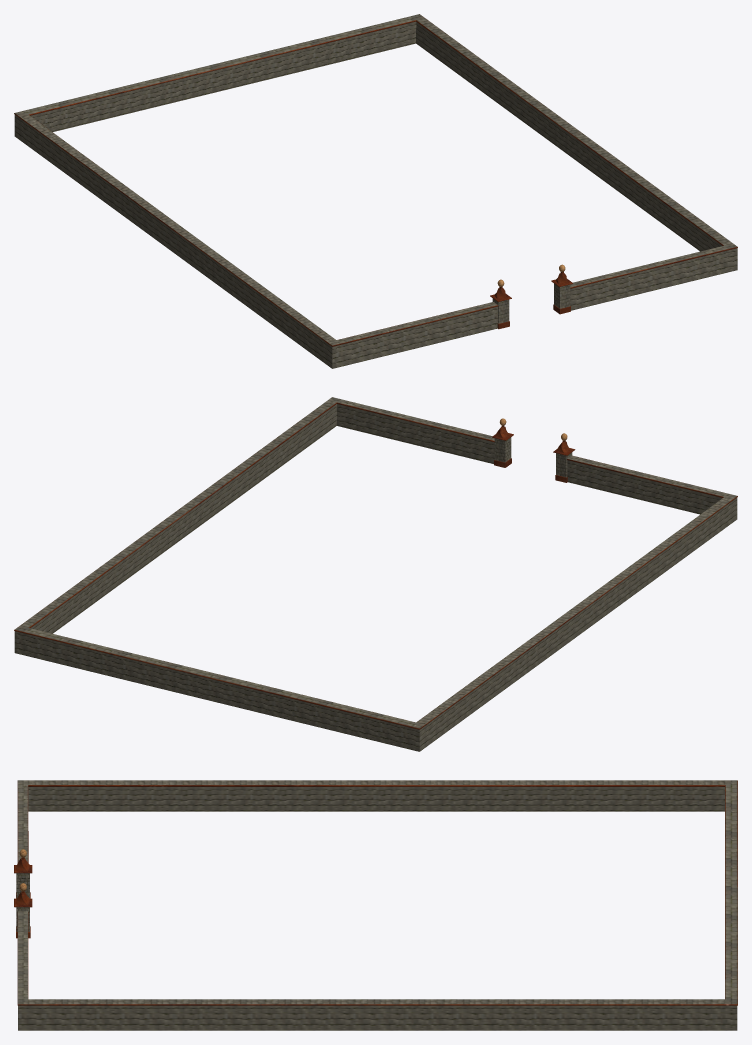
Rendered from fence.fbx.
3 views of the same model, one above another, from view 1: azimuth 30°, elevation 25°; view 2: azimuth 150°, elevation 25°; view 3: azimuth 270°, elevation 25° (orthographic). The views are drawn at different scales.
Parts seen in each view (by area): view 1: SideFence, FenceSide1, FenceSide; view 2: SideFence, FenceSide1; view 3: SideFence, FenceSide, FenceSide1.
Boxes of the visible parts, <box> form: SideFence: <box>14,14,737,368</box>; FenceSide1: <box>551,264,573,314</box>; FenceSide: <box>490,279,511,329</box>; SideFence: <box>14,397,737,751</box>; FenceSide1: <box>492,418,513,467</box>; SideFence: <box>17,780,737,1030</box>; FenceSide: <box>14,849,32,898</box>; FenceSide1: <box>14,883,32,938</box>.
Bounding box in the file's own units: 3586 × 385 × 4893.
